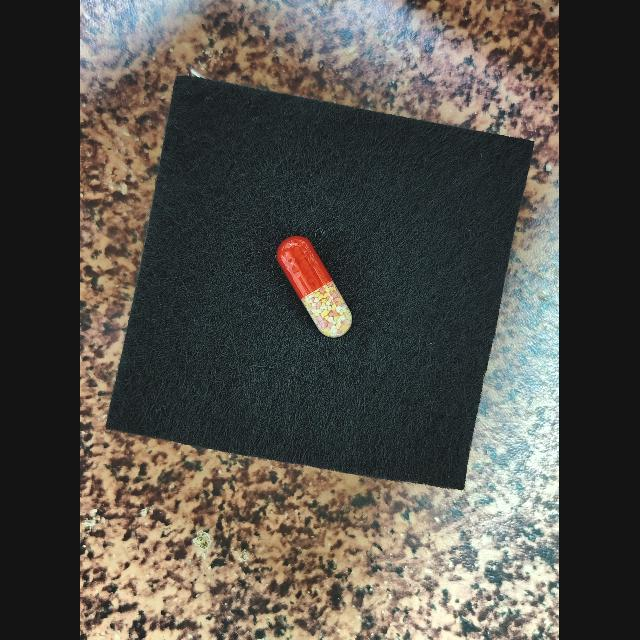Intact Capsule: (277, 236, 353, 337)
